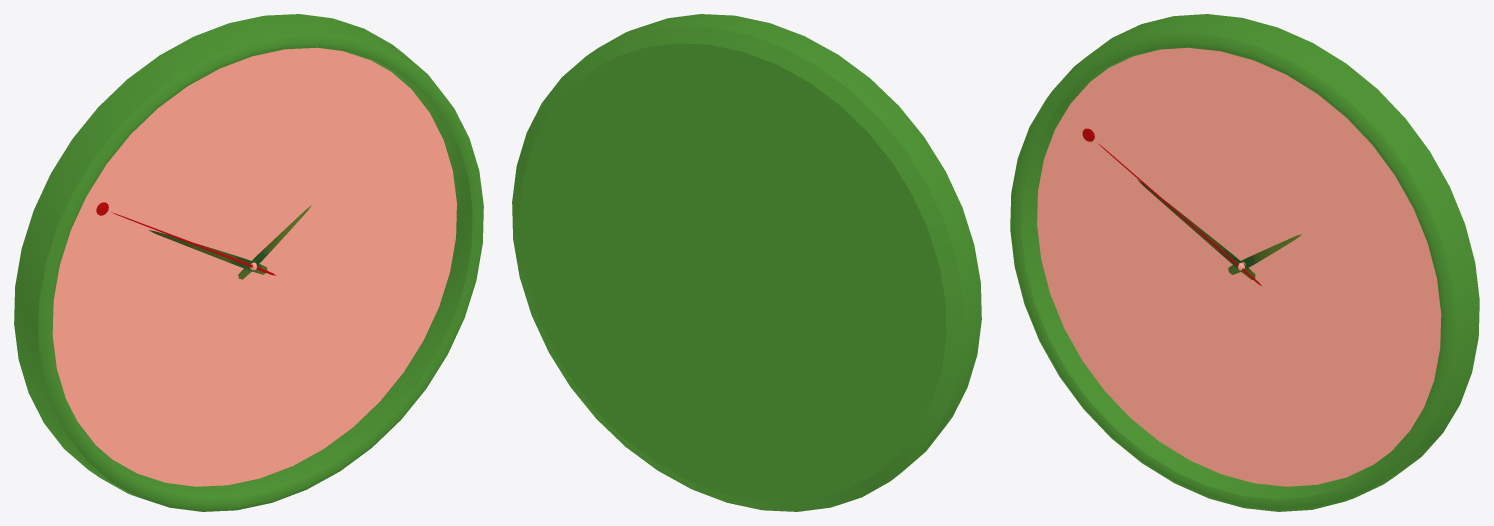
Rendered from clock.glb.
3 renders of one model, left to right at view 1: azimuth 30°, elevation 25°; view 2: azimuth 150°, elevation 25°; view 3: azimuth 330°, elevation 25°, orthographic.
Visible parts, largest first — view 1: Circle.016; view 2: Circle.016; view 3: Circle.016.
Boxes of the visible parts, x1,y1,x2,y2 form: Circle.016: (14,14,483,511); Circle.016: (512,14,981,511); Circle.016: (1010,14,1479,511).
Bounding box in the file's own units: 0.888 × 0.888 × 0.0999.
Materials: 4 (1 with a texture image).
